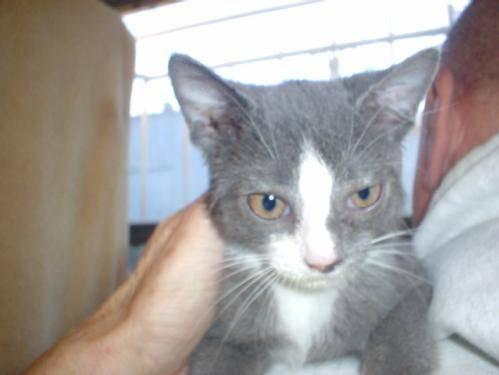cat: (169, 50, 437, 374)
